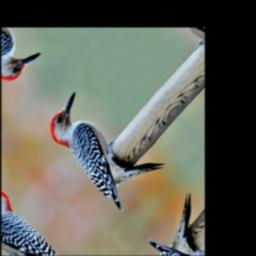Woodpecker: (35, 69, 175, 226)
